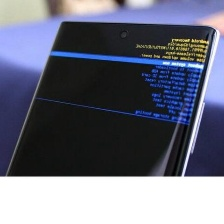phone: (0, 15, 221, 224)
